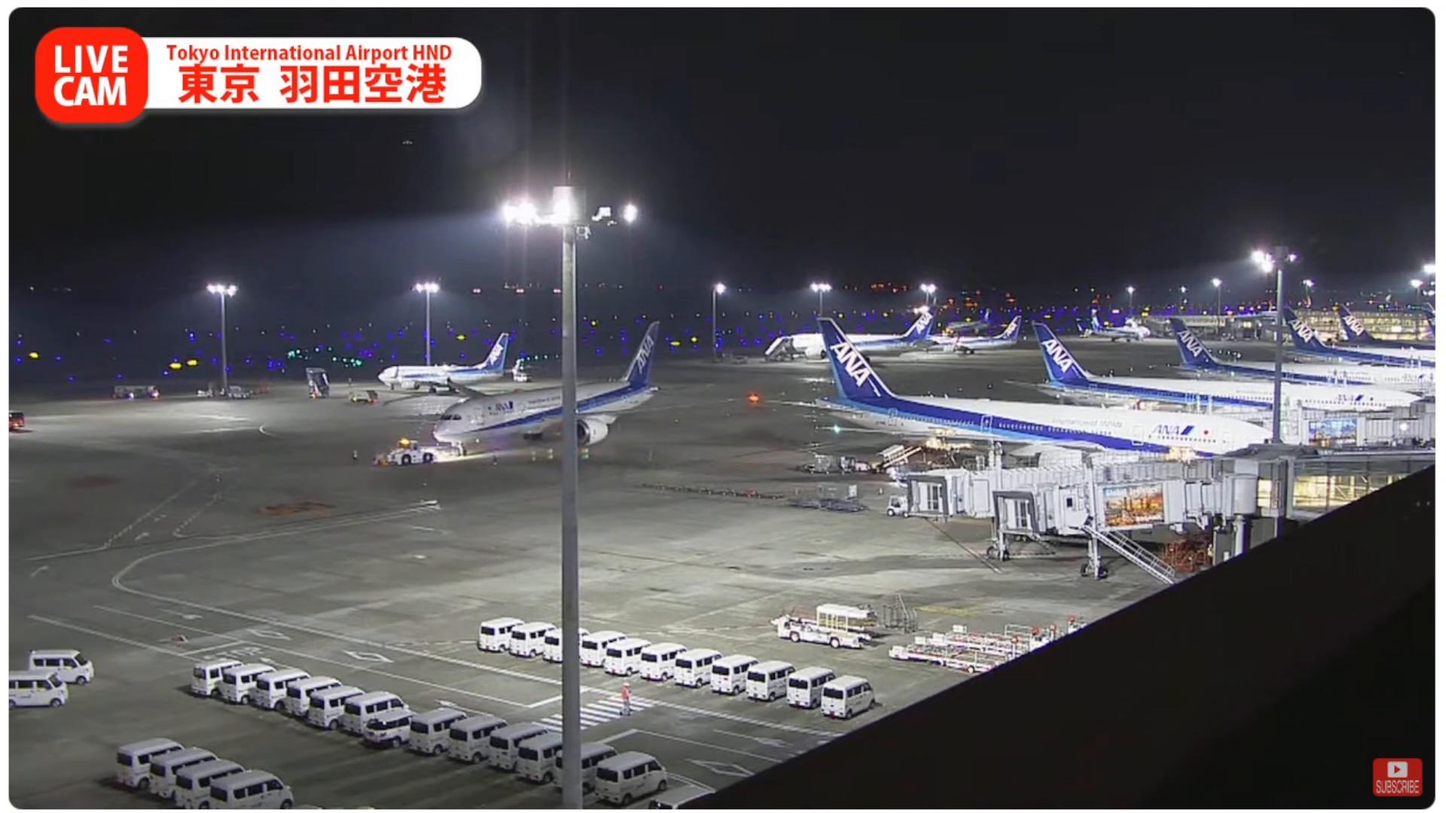APS: (384, 439, 435, 465)
Aerobridge: (905, 456, 1224, 518), (989, 475, 1256, 533)
Airplane: (431, 324, 661, 457)
JCPL: (912, 624, 1048, 657), (889, 640, 1014, 673), (747, 584, 750, 584)
Skyloader: (771, 601, 875, 650)
Window: (1290, 455, 1437, 521)
